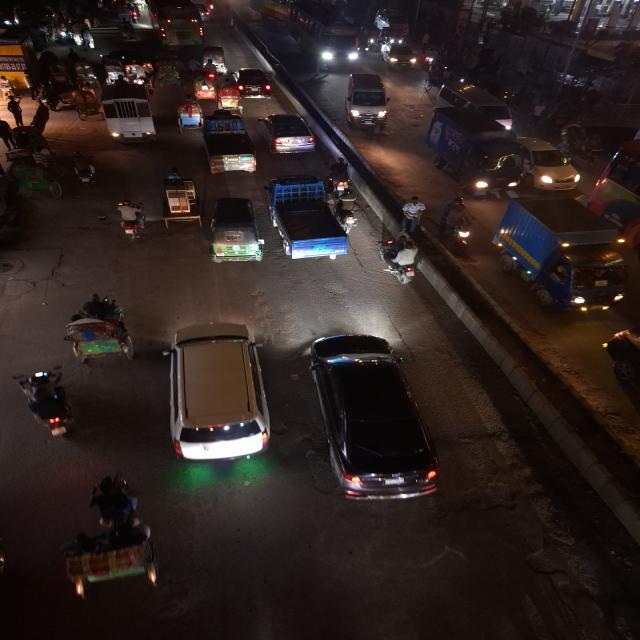bus: (288, 1, 366, 72), (145, 0, 208, 48)
car: (301, 327, 443, 507), (165, 317, 272, 467), (601, 322, 640, 431), (518, 136, 582, 192), (342, 70, 392, 132), (257, 110, 318, 158), (233, 66, 276, 100), (380, 37, 417, 72)
cng: (207, 195, 264, 267)
human_hauler: (104, 89, 158, 148)
motorcycle: (13, 364, 76, 442), (373, 233, 426, 288), (440, 195, 478, 257), (111, 199, 150, 246), (68, 150, 101, 192), (326, 156, 356, 198), (398, 194, 430, 232), (335, 190, 364, 230), (199, 0, 218, 18)
pedestrian: (68, 150, 100, 192), (4, 95, 25, 126)
pickup_van: (266, 173, 350, 267), (201, 131, 257, 176)
rickshaw: (54, 516, 170, 604), (59, 289, 138, 367), (6, 153, 65, 201), (156, 176, 203, 230), (66, 88, 101, 122), (172, 97, 206, 131), (149, 57, 184, 89), (202, 44, 229, 74), (216, 82, 242, 110)
truck: (494, 195, 635, 318), (425, 105, 526, 197), (342, 70, 392, 132)
